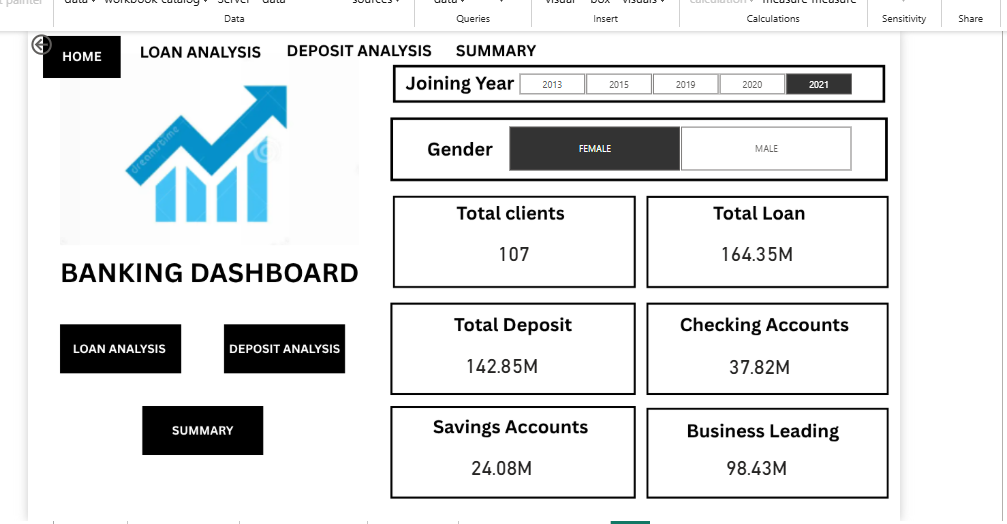

What the dashboard file says about the page in this screenshot:
{"tool":"powerbi","page":{"name":"Home","canvas":[1280,720],"ordinal":0},"visuals":[{"type":"card","fields":{"Values":["CountNonNull(customer.Name)"]},"box":[572.8,290.6,280.5,68.9],"z":0},{"type":"slicer","fields":{"Values":["customer.GenderId"]},"box":[681.8,133.7,552.5,77.9],"z":1000},{"type":"card","box":[930.6,290.6,280.5,68.9],"z":2000},{"type":"card","fields":{"Values":["customer.Total Loan"]},"box":[930.1,292.4,280.7,67.6],"z":3000},{"type":"slicer","fields":{"Values":["customer.join_Year"]},"box":[696.5,55.8,537.8,44.1],"z":4000},{"type":"card","fields":{"Values":["Sum(customer.Business Lending)"]},"box":[930.6,604.7,280.5,68.9],"z":5000},{"type":"card","fields":{"Values":["Sum(customer.Checking Accounts)"]},"box":[934,456.9,280.5,68.9],"z":6000},{"type":"actionButton","box":[69.1,440.8,136.7,50],"z":7000},{"type":"actionButton","box":[282.1,451.1,185.1,39.7],"z":8000},{"type":"actionButton","box":[205.7,565.7,99.9,39.7],"z":9000},{"type":"card","fields":{"Values":["customer.Total Deposit"]},"box":[555.4,457,280.7,67.6],"z":10000},{"type":"card","fields":{"Values":["Sum(customer.Saving Accounts)"]},"box":[555.4,606.9,280.7,67.6],"z":11000},{"type":"actionButton","box":[0,0,100,40],"z":12000}]}

Visuals, with their boxes on the page's 1280x720 design canvas (x1, y1, x2, y2). These are canvas units, not pixel positions in the 1007x524 screenshot, which may show the page scaled, cropped or inside an application window:
card - CountNonNull(customer.Name): box(573, 291, 853, 360)
slicer - customer.GenderId: box(682, 134, 1234, 212)
card: box(931, 291, 1211, 360)
card - customer.Total Loan: box(930, 292, 1211, 360)
slicer - customer.join_Year: box(696, 56, 1234, 100)
card - Sum(customer.Business Lending): box(931, 605, 1211, 674)
card - Sum(customer.Checking Accounts): box(934, 457, 1214, 526)
actionButton: box(69, 441, 206, 491)
actionButton: box(282, 451, 467, 491)
actionButton: box(206, 566, 306, 605)
card - customer.Total Deposit: box(555, 457, 836, 525)
card - Sum(customer.Saving Accounts): box(555, 607, 836, 674)
actionButton: box(0, 0, 100, 40)
